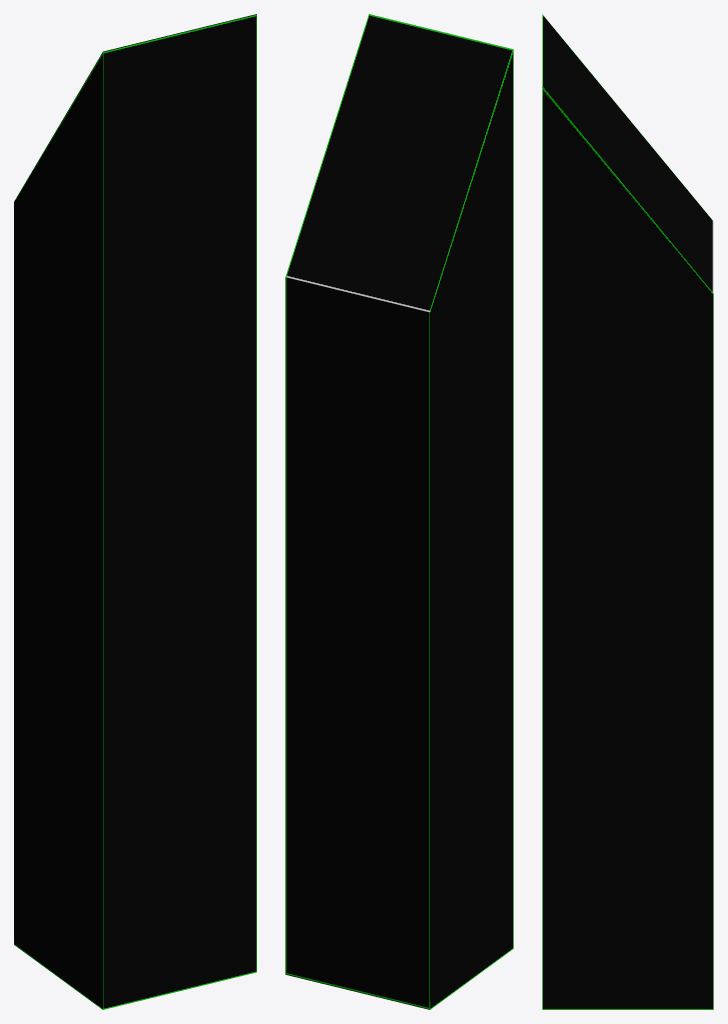
The model's file is Triangle_Building.fbx.
3 views of the same model, side by side, from view 1: azimuth 30°, elevation 25°; view 2: azimuth 150°, elevation 25°; view 3: azimuth 270°, elevation 25° (orthographic). The views are drawn at different scales.
Visible parts, largest first — view 1: Triangle_Building; view 2: Triangle_Building; view 3: Triangle_Building.
Part boxes in pixels (x1=…): Triangle_Building: x1=14, y1=14, x2=256, y2=1009; Triangle_Building: x1=285, y1=14, x2=513, y2=1009; Triangle_Building: x1=542, y1=14, x2=713, y2=1009.
Size of what is drawn, in the model's own units: 0.3937 by 2.34 by 0.3937.
1 material, 1 textured.
